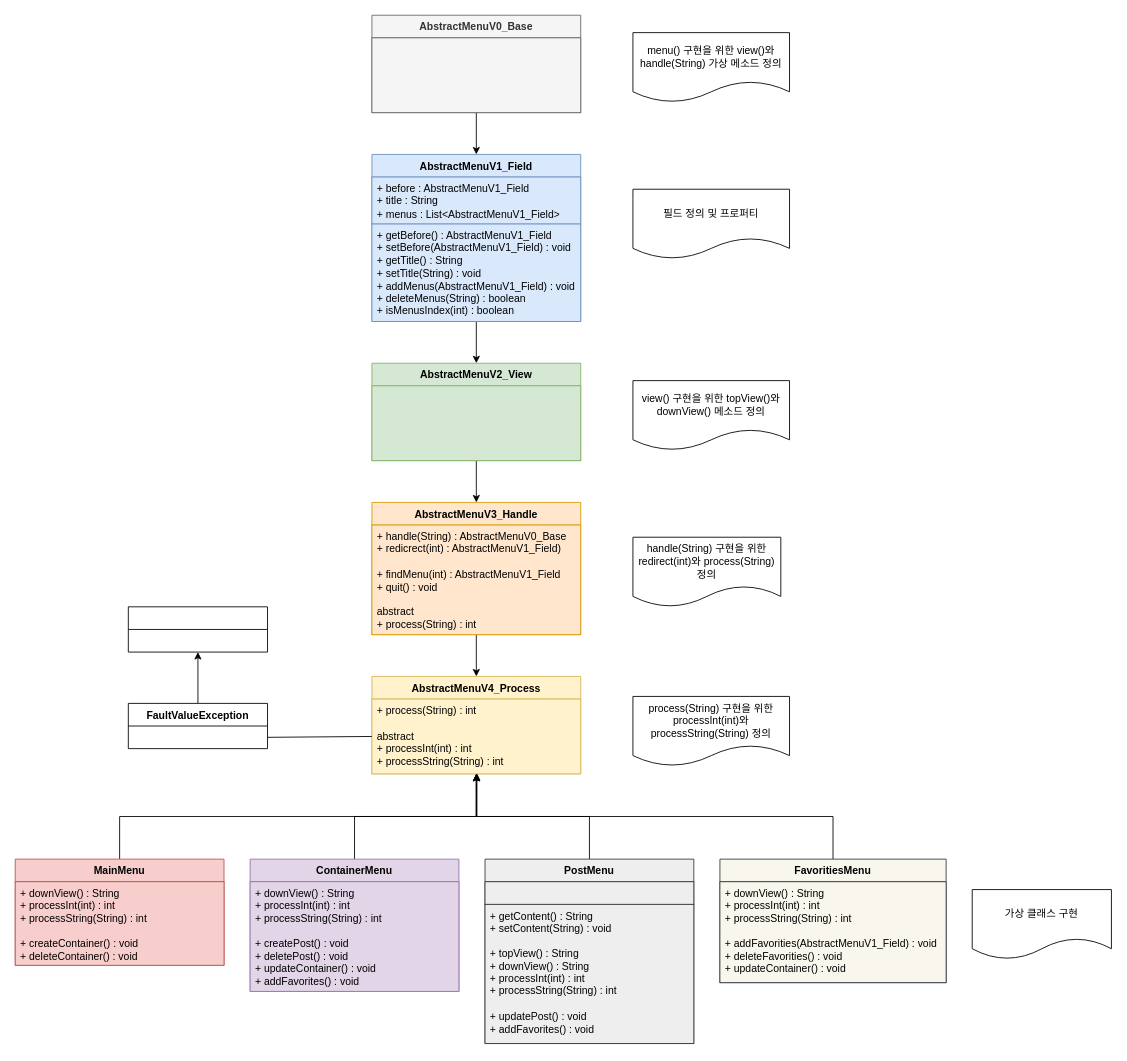
The diagram is 1127 pixels wide and 1061 high, and some of its shapes have lost their labels. Here are the shapes that lost their labels. From the top down, the centre of each, then its label:
the point at 476,75: + menu(): void abstract + view() : void + handle(String) : AbstractMenuV0_Base
the point at 476,423: + view() : void + topView() : String abstract + downView() : String
the point at 197,629: Exception
the point at 589,892: + content : String
